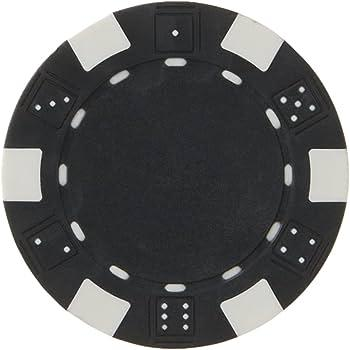chip-black: (3, 2, 349, 347)
